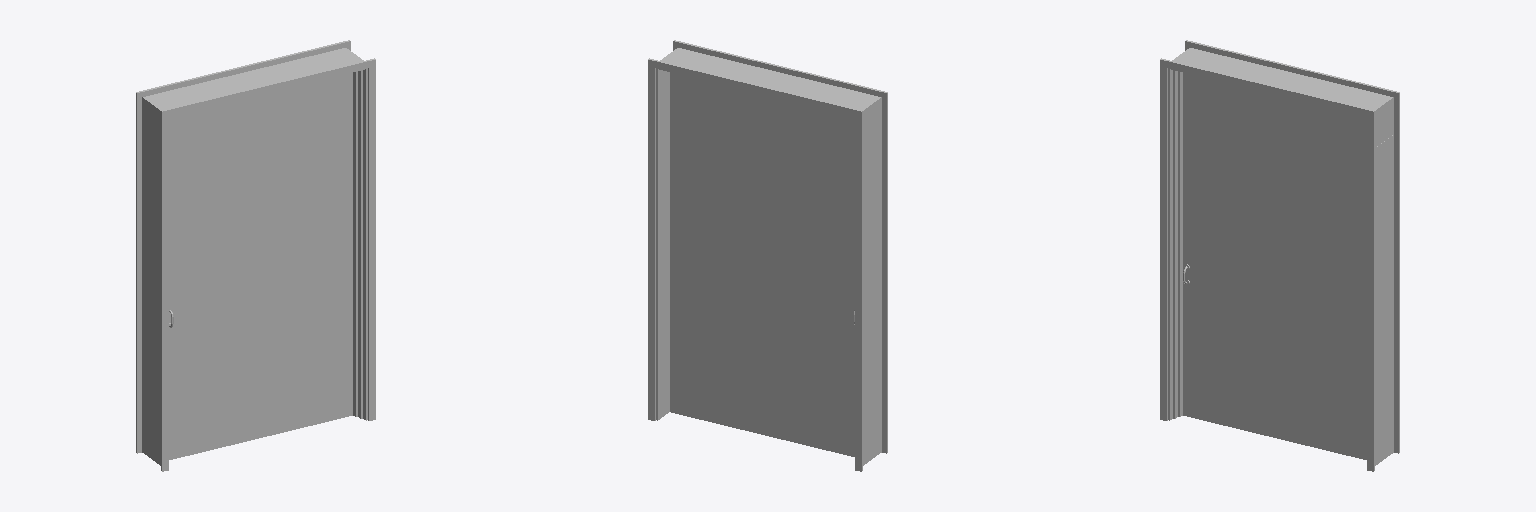
File: Door Hosp 2.obj
3 views of the same model, side by side, from view 1: azimuth 30°, elevation 25°; view 2: azimuth 150°, elevation 25°; view 3: azimuth 330°, elevation 25° (orthographic).
Visible parts, largest first — view 1: DOOR GROUND_FLOOR PAINT_-_GOLDEN_BEIGE, DOOR GROUND_FLOOR PAINT_-_LEAD_OXIDE_YELLOW, DOOR GROUND_FLOOR PAINT_-_CADMIUM_ORANGE; view 2: DOOR GROUND_FLOOR PAINT_-_CELADON, DOOR GROUND_FLOOR PAINT_-_LEAD_OXIDE_YELLOW, DOOR GROUND_FLOOR PAINT_-_CADMIUM_ORANGE, DOOR GROUND_FLOOR PAINT_-_BORDEAUX; view 3: DOOR GROUND_FLOOR PAINT_-_GOLDEN_BEIGE, DOOR GROUND_FLOOR PAINT_-_LEAD_OXIDE_YELLOW, WALL GROUND_FLOOR PAINT_-_LIGHT_GRAY, DOOR GROUND_FLOOR PAINT_-_CADMIUM_ORANGE.
Boxes of the visible parts, x1=… form: DOOR GROUND_FLOOR PAINT_-_GOLDEN_BEIGE: x1=169, y1=73, x2=352, y2=459; DOOR GROUND_FLOOR PAINT_-_LEAD_OXIDE_YELLOW: x1=136, y1=40, x2=375, y2=471; DOOR GROUND_FLOOR PAINT_-_CADMIUM_ORANGE: x1=154, y1=56, x2=363, y2=465; DOOR GROUND_FLOOR PAINT_-_CELADON: x1=672, y1=73, x2=854, y2=456; DOOR GROUND_FLOOR PAINT_-_LEAD_OXIDE_YELLOW: x1=648, y1=40, x2=887, y2=471; DOOR GROUND_FLOOR PAINT_-_CADMIUM_ORANGE: x1=667, y1=50, x2=878, y2=460; DOOR GROUND_FLOOR PAINT_-_BORDEAUX: x1=670, y1=72, x2=671, y2=412; DOOR GROUND_FLOOR PAINT_-_GOLDEN_BEIGE: x1=1183, y1=73, x2=1366, y2=459; DOOR GROUND_FLOOR PAINT_-_LEAD_OXIDE_YELLOW: x1=1160, y1=40, x2=1399, y2=471; WALL GROUND_FLOOR PAINT_-_LIGHT_GRAY: x1=1375, y1=135, x2=1393, y2=465; DOOR GROUND_FLOOR PAINT_-_CADMIUM_ORANGE: x1=1172, y1=56, x2=1381, y2=418.
Size of the model in its own units: 1.57 by 2.54 by 0.338.